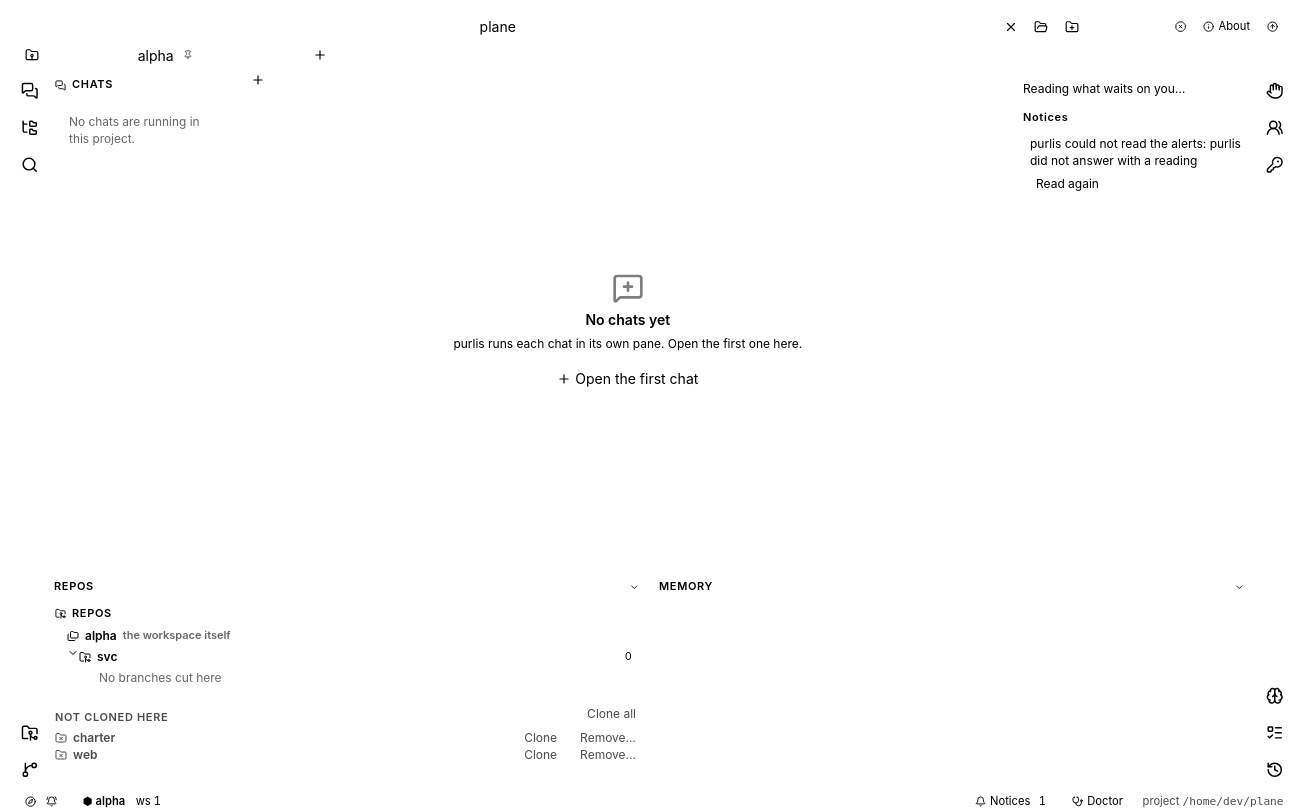
a repo that is not cloned here › is offered on the row's own menu
The image size is (1304, 812).
Click the tab named "Explorer" at (30, 128), box x1=12 y1=110 x2=47 y2=145
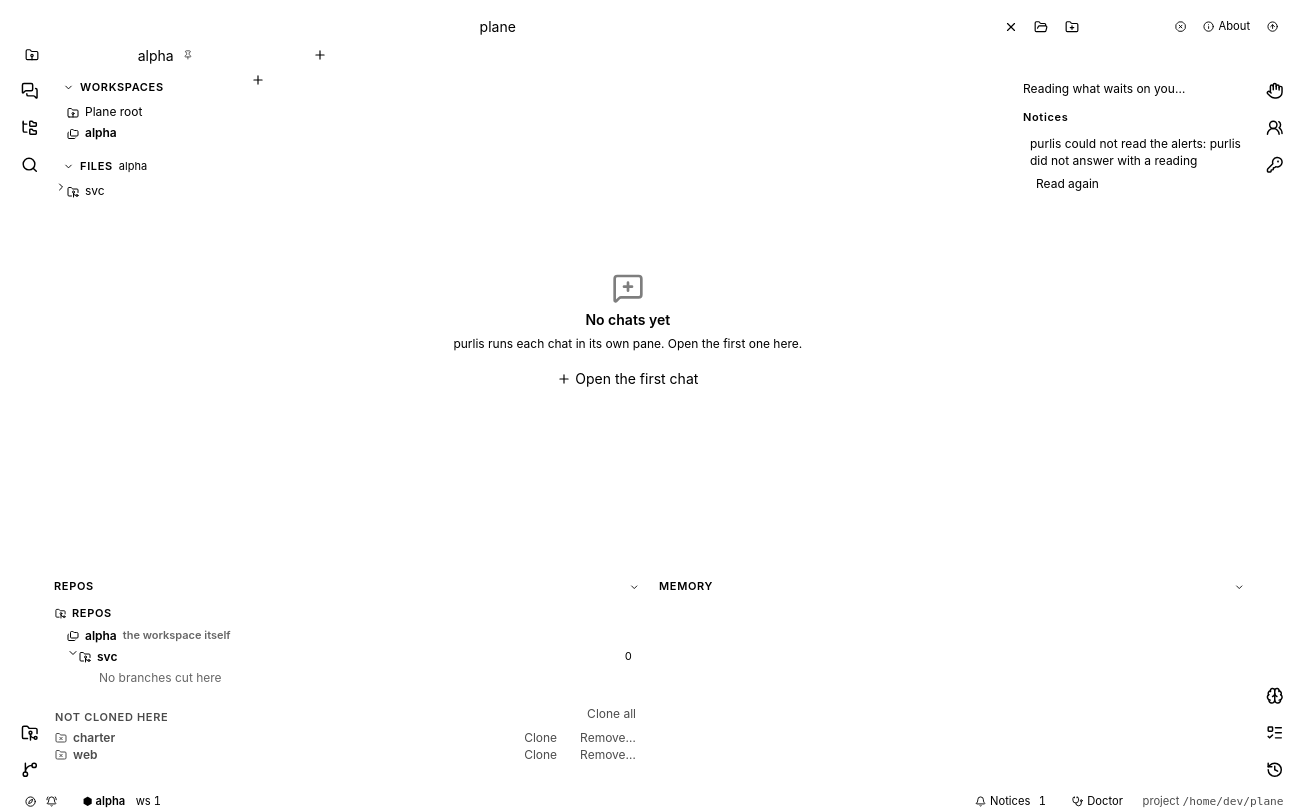
Right-click the text "web" at (85, 755), box x1=73 y1=746 x2=98 y2=763
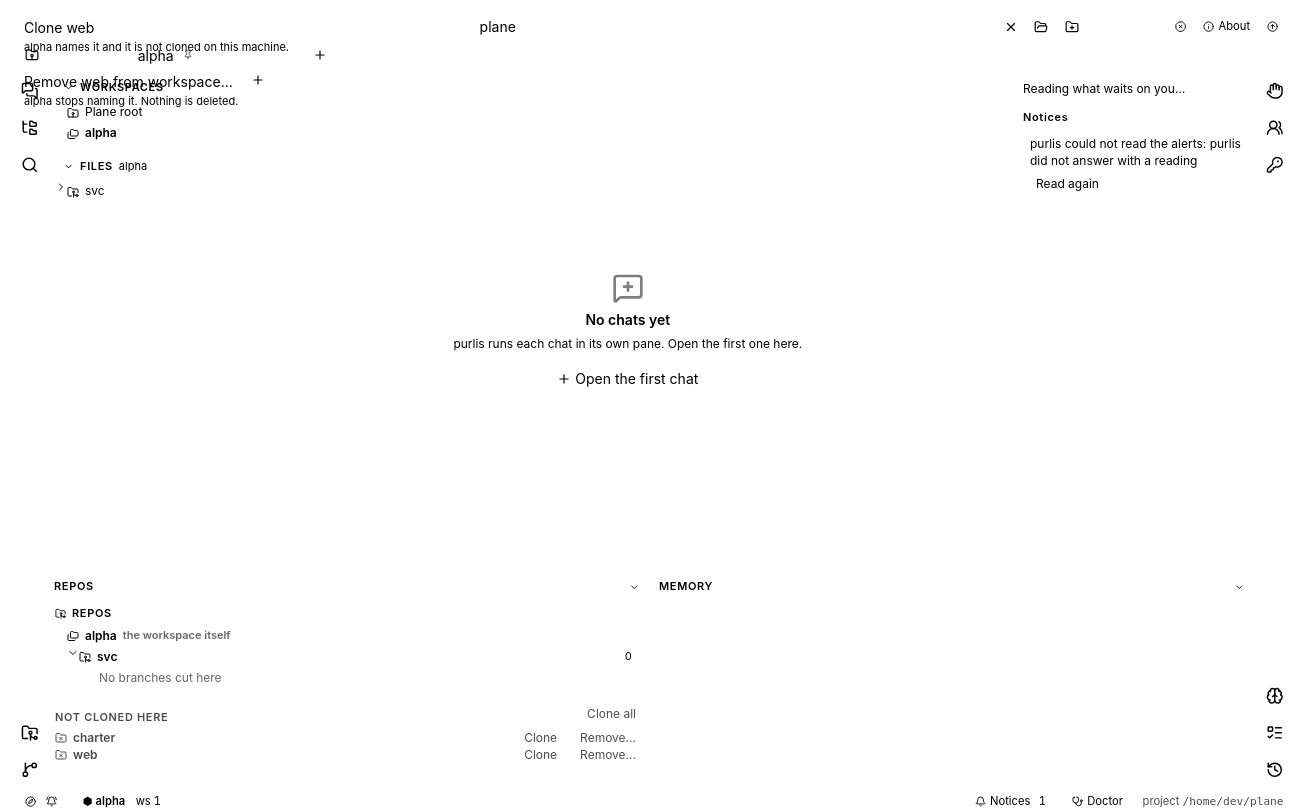
Click the menu item "Clone web" at (59, 28), box x1=24 y1=19 x2=289 y2=54
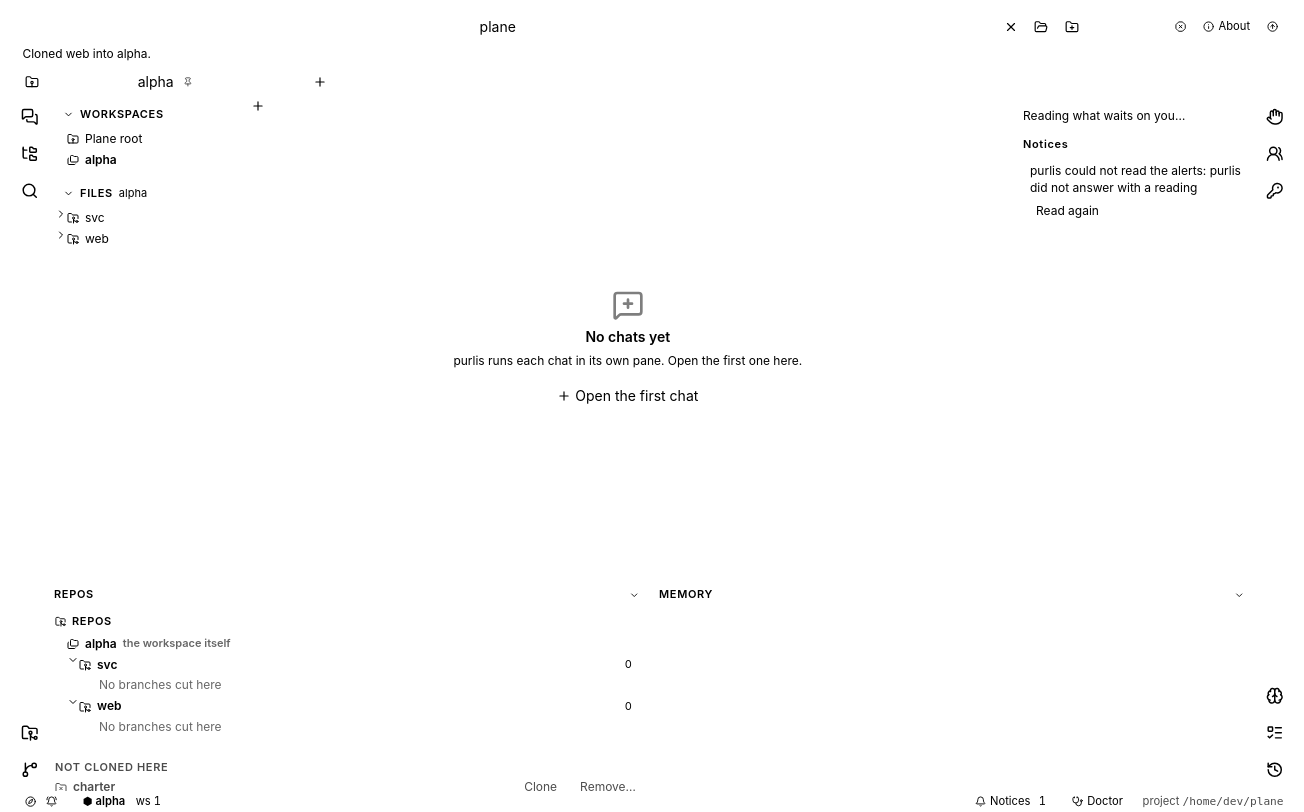
Check: the element with test id "clone-web" is shown, box x1=55 y1=696 x2=644 y2=736
